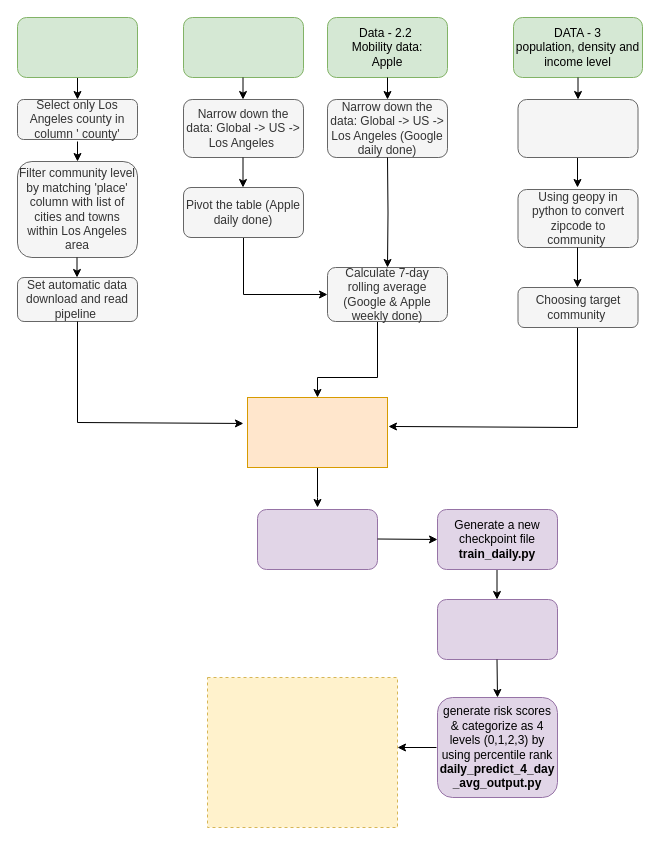
Some shapes in this 660 by 845 pixel diagram are drawn without their labels. The centre of each missing label's shape, as x and y in pixels:
Combine income dataset and population dataset by common zipcode: the point at 577,128
DATA - 1 COVID-19 case count by neighborhood: the point at 77,47
Data - 2.1 Mobility data: Google: the point at 243,47
Data pipeline for three data sources and get input file data_preprocessing.py: the point at 317,432
output details time_stamp (Daily) region risk_socre risk_level: the point at 302,752
Run model for train and test dataset main.py: the point at 497,629
Tune parameter for lstm model parameter_daily.py: the point at 317,539
